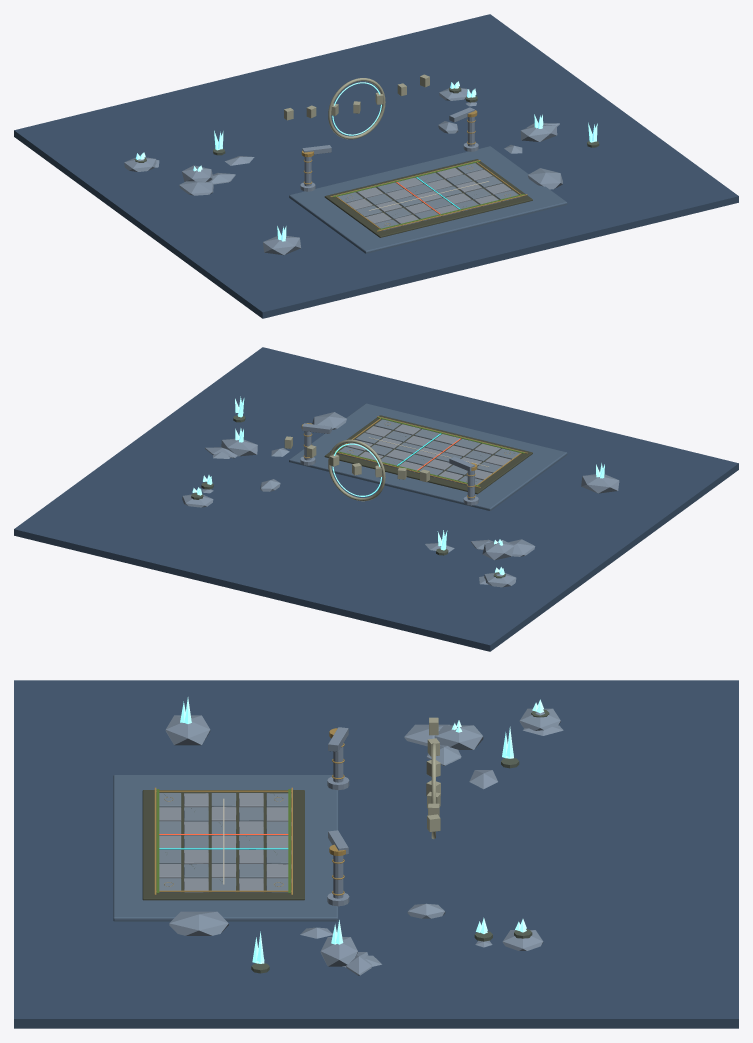
The model's file is rift_gallery.glb.
3 views of the same model, one above another, from view 1: azimuth 30°, elevation 25°; view 2: azimuth 150°, elevation 25°; view 3: azimuth 270°, elevation 25° (orthographic). The views are drawn at different scales.
Parts seen in each view (by area): view 1: BattleWorldGround, BattleMeadow, ArenaTiles, Architecture, ArenaBase, Energy, ArenaBorders, MovingFloat; view 2: BattleWorldGround, BattleMeadow, Architecture, ArenaTiles, ArenaBase, Energy, ArenaBorders, MovingFloat; view 3: BattleWorldGround, BattleMeadow, ArenaTiles, Architecture, ArenaBase, Energy, ArenaBorders, MovingFloat.
Part boxes in pixels (left/top/right/bottom): BattleWorldGround: left=14, top=14, right=738, bottom=318; BattleMeadow: left=289, top=146, right=567, bottom=253; ArenaTiles: left=337, top=163, right=520, bottom=230; Architecture: left=124, top=78, right=562, bottom=255; ArenaBase: left=324, top=159, right=532, bottom=237; Energy: left=134, top=81, right=599, bottom=241; ArenaBorders: left=330, top=160, right=527, bottom=231; MovingFloat: left=284, top=74, right=429, bottom=120; BattleWorldGround: left=14, top=347, right=738, bottom=651; BattleMeadow: left=289, top=403, right=567, bottom=510; Architecture: left=182, top=412, right=619, bottom=587; ArenaTiles: left=337, top=419, right=519, bottom=485; ArenaBase: left=324, top=415, right=532, bottom=494; Energy: left=191, top=396, right=604, bottom=578; ArenaBorders: left=330, top=416, right=527, bottom=487; MovingFloat: left=284, top=436, right=429, bottom=482; BattleWorldGround: left=14, top=680, right=738, bottom=1028; BattleMeadow: left=113, top=775, right=338, bottom=921; ArenaTiles: left=159, top=793, right=291, bottom=892; Architecture: left=165, top=708, right=563, bottom=975; ArenaBase: left=142, top=790, right=304, bottom=900; Energy: left=180, top=697, right=549, bottom=973; ArenaBorders: left=154, top=787, right=292, bottom=894; MovingFloat: left=426, top=717, right=440, bottom=832.
Size of the model in its own units: 42 by 7.52 by 38.
